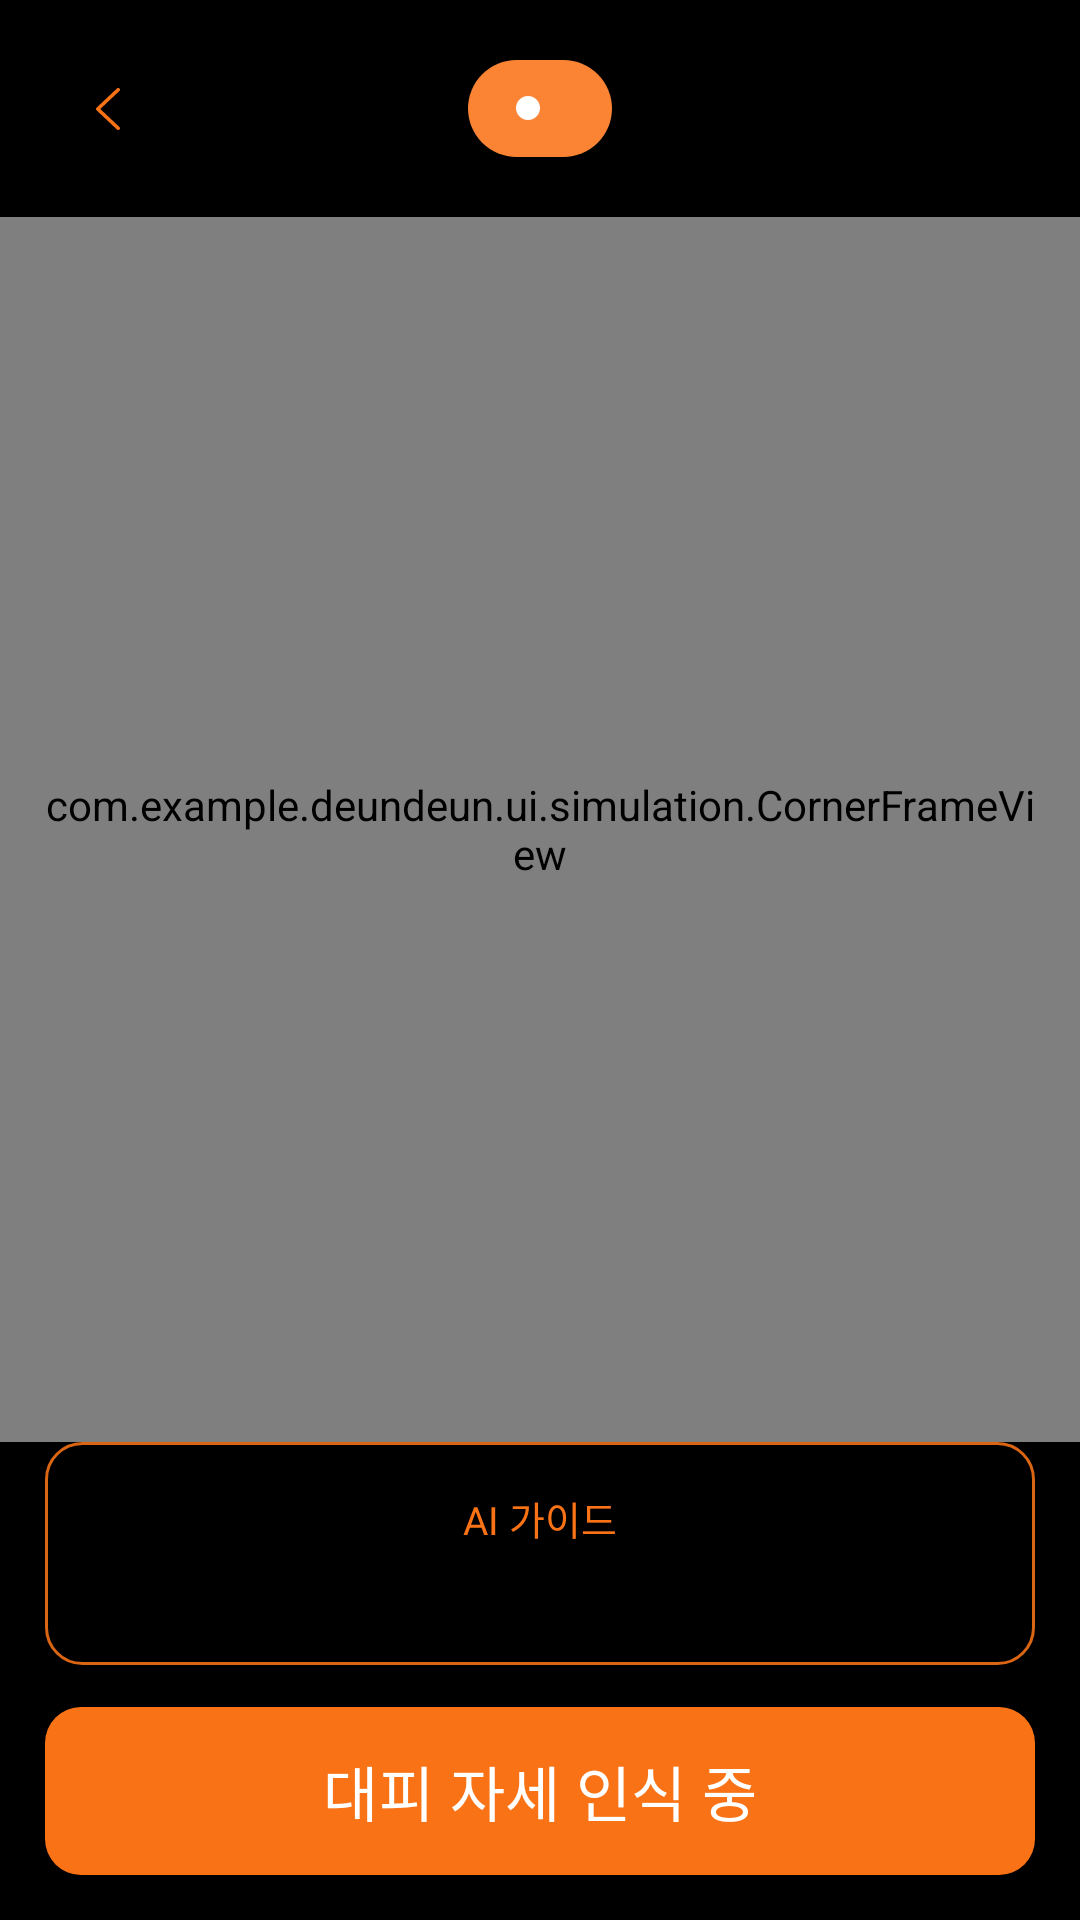

Screen size 1080 × 1920. Icon name, then its box in pixels as (x1, y1, x2, y2):
뒤로 가기: (96, 88, 120, 130)
